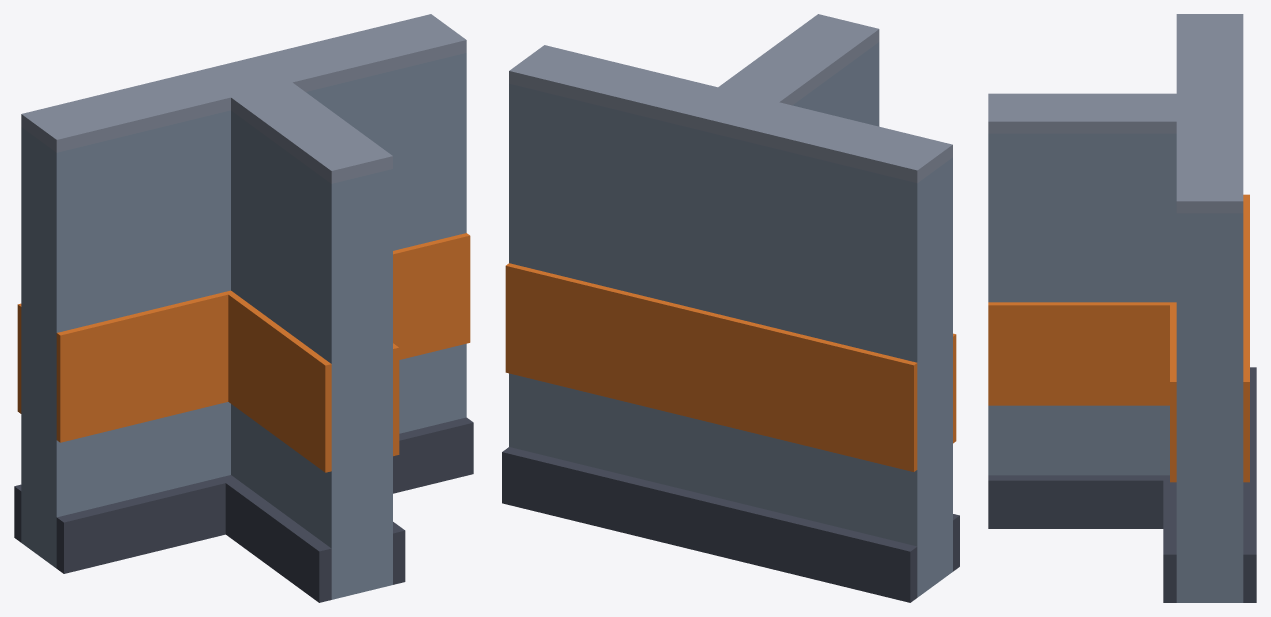
Rendered from partition-full-tee.glb.
3 views of the same model, side by side, from view 1: azimuth 30°, elevation 25°; view 2: azimuth 150°, elevation 25°; view 3: azimuth 270°, elevation 25° (orthographic). The views are drawn at different scales.
Parts seen in each view (by area): view 1: partition-full-tee; view 2: partition-full-tee; view 3: partition-full-tee.
Part boxes in pixels (bbox=[...]): partition-full-tee: bbox=[14, 14, 473, 602]; partition-full-tee: bbox=[502, 14, 959, 602]; partition-full-tee: bbox=[988, 14, 1256, 602].
Size of the model in its own units: 1 by 1 by 0.605.
Materials: 1 (1 with a texture image).
